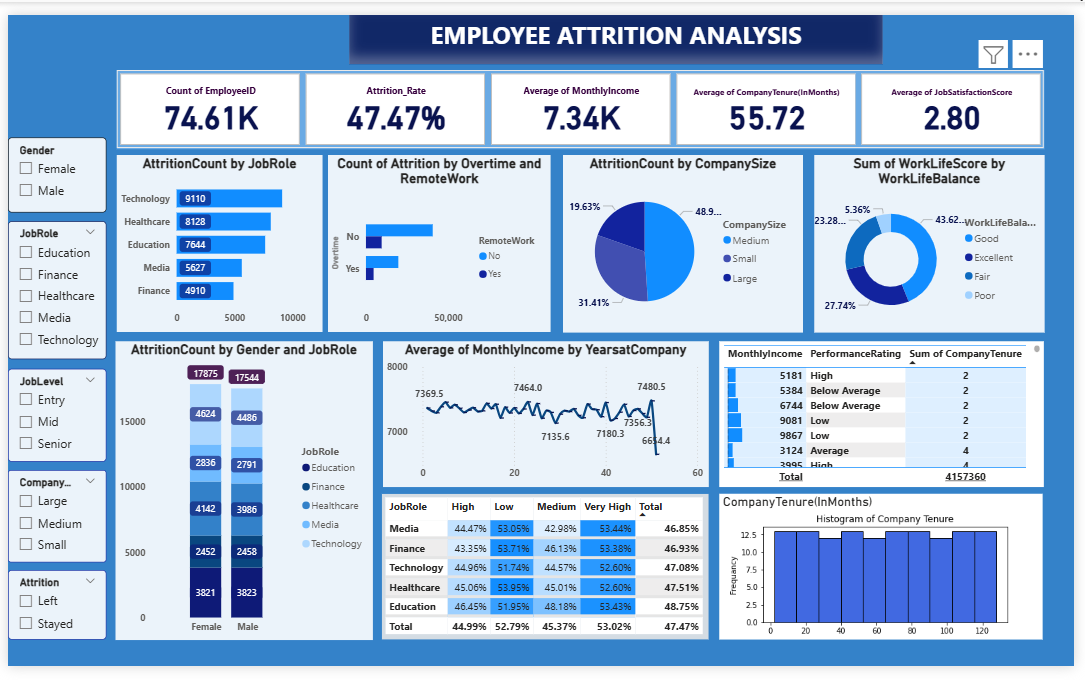

The dashboard page shown, as its layout file describes it:
{"tool":"powerbi","page":{"name":"EMP_ATTRITION","canvas":[1422,868],"ordinal":0},"visuals":[{"type":"textbox","box":[454.3,0,711.4,65.7],"z":0},{"type":"slicer","fields":{"Values":["Emp_attrition.Gender"]},"box":[0,162.9,131.4,100],"z":1000},{"type":"slicer","fields":{"Values":["Emp_attrition.JobLevel"]},"box":[0,471.4,131.4,124.3],"z":2000},{"type":"slicer","fields":{"Values":["Emp_attrition.CompanySize"]},"box":[0,607.1,131.4,122.9],"z":3000},{"type":"slicer","fields":{"Values":["Emp_attrition.JobRole"]},"box":[0,275.7,131.4,184.3],"z":4000},{"type":"slicer","fields":{"Values":["Emp_attrition.Attrition"]},"box":[0,740,131.4,92.9],"z":5000},{"type":"cardVisual","fields":{"Data":["CountNonNull(Emp_attrition.EmployeeID)","Emp_attrition.Attrition_Rate","Avg(Emp_attrition.MonthlyIncome)","Avg(Emp_attrition.CompanyTenure(InMonths))","Avg(Emp_attrition.JobSatisfactionScore)"]},"box":[144.3,72.9,1237.1,105.7],"z":6000},{"type":"barChart","fields":{"Y":["Emp_attrition.AttritionCount"],"Category":["Emp_attrition.JobRole"]},"box":[144.3,187.1,274.3,235.7],"z":7000},{"type":"columnChart","fields":{"Y":["Emp_attrition.AttritionCount"],"Category":["Emp_attrition.Gender"],"Series":["Emp_attrition.JobRole"]},"box":[142.9,434.3,342.9,398.6],"z":8000},{"type":"pieChart","fields":{"Y":["Emp_attrition.AttritionCount"],"Category":["Emp_attrition.CompanySize"]},"box":[740,187.1,320,237.1],"z":9000},{"type":"lineChart","fields":{"Y":["Avg(Emp_attrition.MonthlyIncome)"],"Category":["Emp_attrition.YearsatCompany"]},"box":[500,434.3,434.3,194.3],"z":10000},{"type":"clusteredBarChart","fields":{"Y":["CountNonNull(Emp_attrition.Attrition)"],"Category":["Emp_attrition.Overtime"],"Series":["Emp_attrition.RemoteWork"]},"box":[427.1,187.1,297.1,235.7],"z":11000},{"type":"tableEx","fields":{"Values":["Emp_attrition.MonthlyIncome","Emp_attrition.PerformanceRating","Sum(Emp_attrition.CompanyTenure(InMonths))"]},"box":[948.6,434.3,432.9,194.3],"z":12000},{"type":"donutChart","fields":{"Category":["Emp_attrition.WorkLifeBalance"],"Y":["Sum(Emp_attrition.WorkLifeScore)"]},"box":[1074.3,187.1,307.1,237.1],"z":13000},{"type":"pivotTable","fields":{"Values":["Emp_attrition.Attrition_Rate"],"Rows":["Emp_attrition.JobRole"],"Columns":["Emp_attrition.JobSatisfaction"]},"box":[498.6,638.6,435.7,194.3],"z":14000},{"type":"pythonVisual","fields":{"Values":["Emp_attrition.CompanyTenure(InMonths)"]},"box":[948.6,638.6,431.4,194.3],"z":15000}]}

Visuals, with their boxes in screenshot pixels (x1, y1, x2, y2), scaled from the page's 1422x868 canvas onto the 1085x680 screenshot:
textbox: bbox=(347, 0, 889, 51)
slicer - Emp_attrition.Gender: bbox=(0, 128, 100, 206)
slicer - Emp_attrition.JobLevel: bbox=(0, 369, 100, 467)
slicer - Emp_attrition.CompanySize: bbox=(0, 476, 100, 572)
slicer - Emp_attrition.JobRole: bbox=(0, 216, 100, 360)
slicer - Emp_attrition.Attrition: bbox=(0, 580, 100, 653)
cardVisual - CountNonNull(Emp_attrition.EmployeeID) x Emp_attrition.Attrition_Rate: bbox=(110, 57, 1054, 140)
barChart - Emp_attrition.AttritionCount x Emp_attrition.JobRole: bbox=(110, 147, 319, 331)
columnChart - Emp_attrition.AttritionCount x Emp_attrition.Gender: bbox=(109, 340, 371, 653)
pieChart - Emp_attrition.AttritionCount x Emp_attrition.CompanySize: bbox=(565, 147, 809, 332)
lineChart - Avg(Emp_attrition.MonthlyIncome) x Emp_attrition.YearsatCompany: bbox=(382, 340, 713, 492)
clusteredBarChart - CountNonNull(Emp_attrition.Attrition) x Emp_attrition.Overtime: bbox=(326, 147, 553, 331)
tableEx - Emp_attrition.MonthlyIncome x Emp_attrition.PerformanceRating: bbox=(724, 340, 1054, 492)
donutChart - Emp_attrition.WorkLifeBalance x Sum(Emp_attrition.WorkLifeScore): bbox=(820, 147, 1054, 332)
pivotTable - Emp_attrition.Attrition_Rate x Emp_attrition.JobRole: bbox=(380, 500, 713, 653)
pythonVisual - Emp_attrition.CompanyTenure(InMonths): bbox=(724, 500, 1053, 653)
